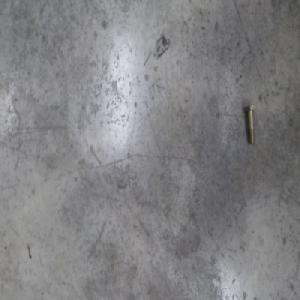Bolt: (244, 102, 255, 144)
